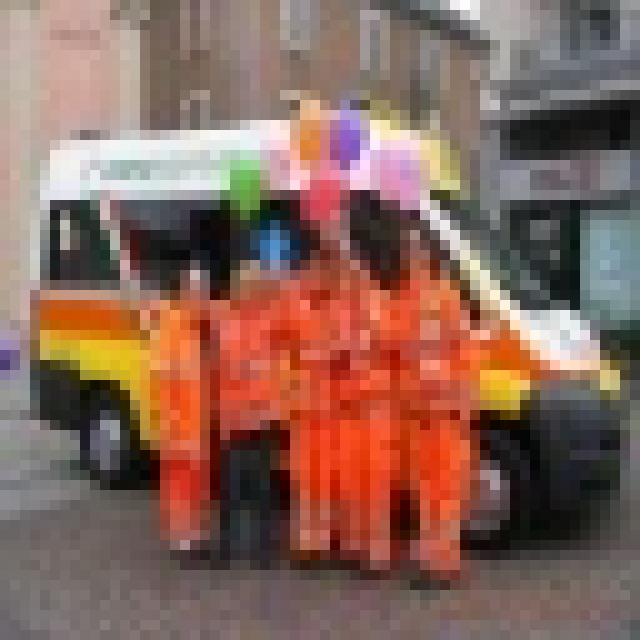Ambulance: (20, 100, 620, 550)
